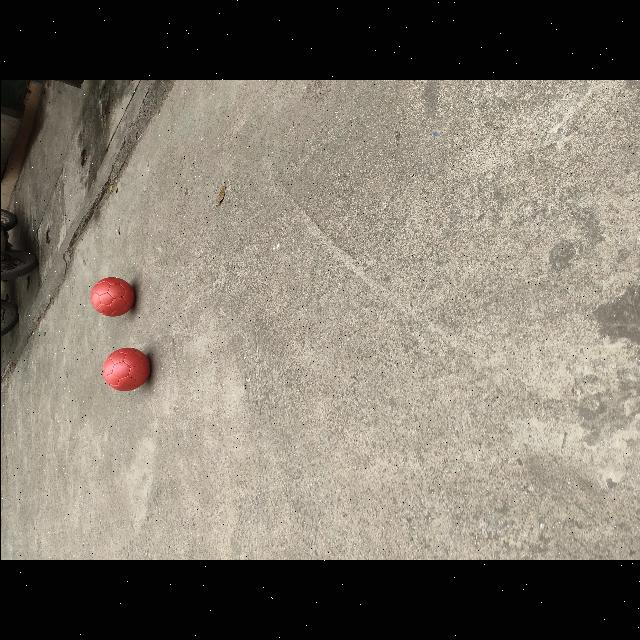R: (102, 348, 150, 390), (90, 278, 134, 316)
